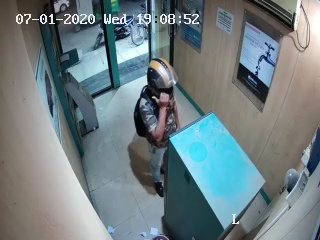helmet: (147, 56, 178, 105)
